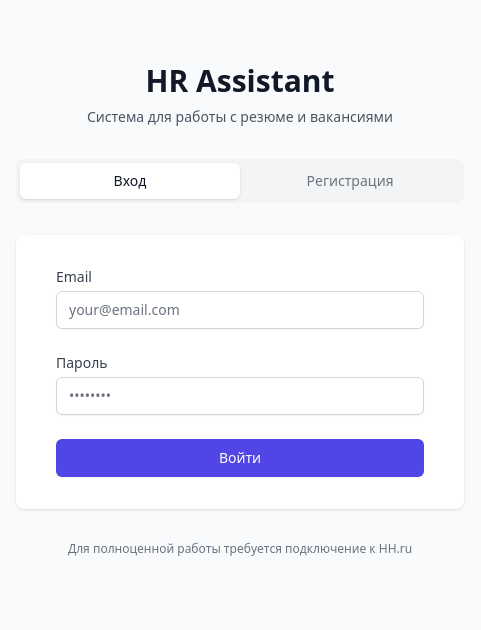
AuthPage › should switch back to login form when clicking "Вход"
# Switch to signup
What coordinates should you click on to do the following:
click the button "Регистрация"
I would click on:
 (350, 181)
Its box is [240,163,460,199].
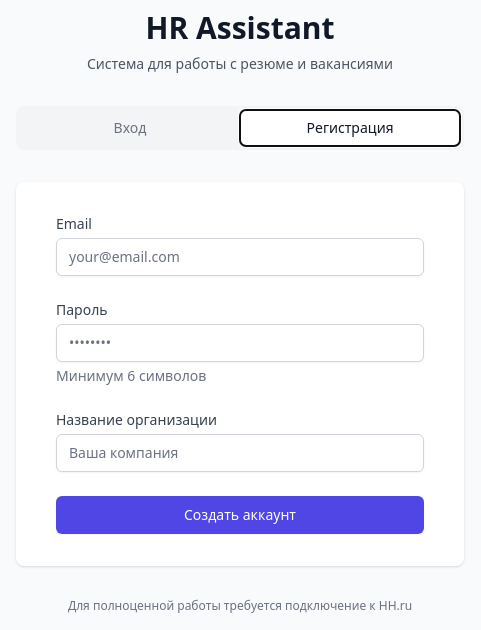
Check: the button "Создать аккаунт" is shown, box [56,496,424,534]
# Switch back to login
What coordinates should you click on to do the following:
click the button "Вход"
I would click on:
 (130, 128)
Its box is [20,110,240,146].
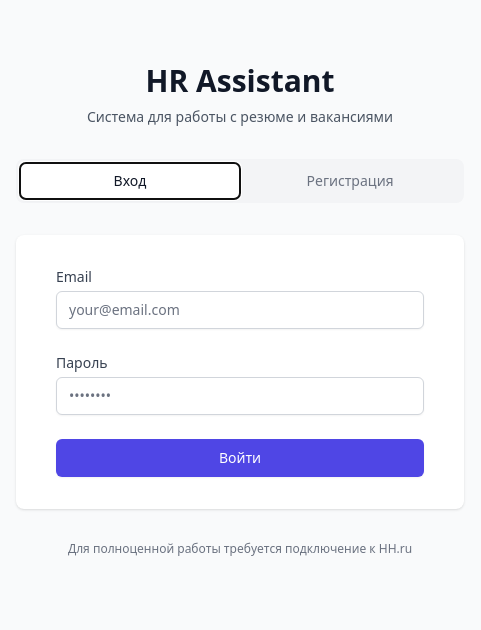
Check: the button "Войти" is shown, box [56,439,424,477]
